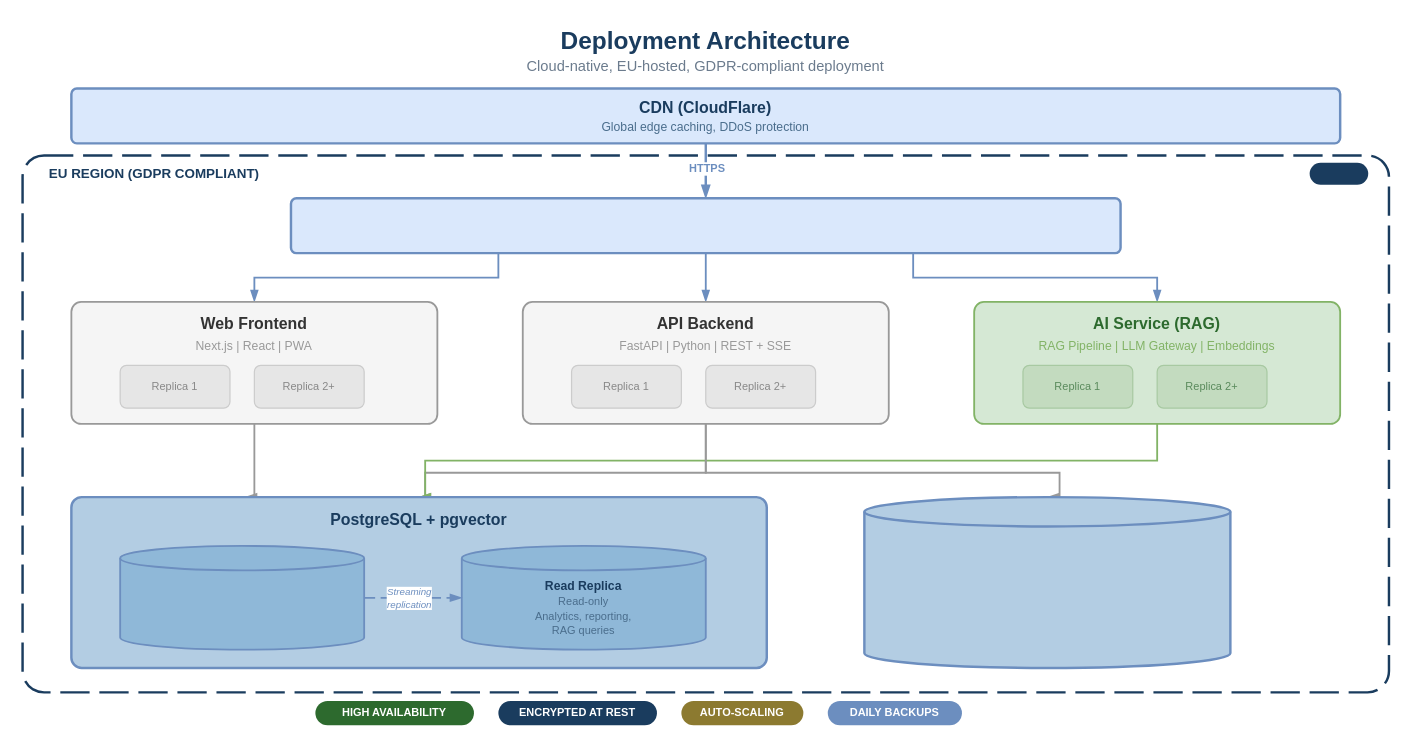
Image size: 1410x749. Some labels were removed from this diagram. The shapes that lost their labels are listed below. From the top down, each one's box as (x1, y1, x2, y2) in pixels, then its label:
(1309, 162, 1368, 184): GDPR
(289, 196, 1121, 254): Load Balancer (HTTPS) TLS termination, health checks, rate limiting
(119, 544, 365, 650): Primary Read / Write Users, courses, embeddings, audit
(863, 495, 1231, 669): Object Storage S3 / GCS Medical images, course media, positioning diagrams
